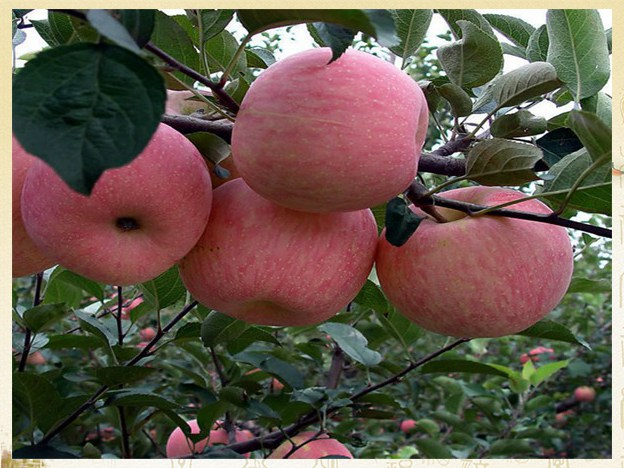apple: (232, 44, 430, 210), (373, 186, 574, 338)
obscured(1)_apple: (22, 120, 209, 286), (178, 174, 378, 326)
